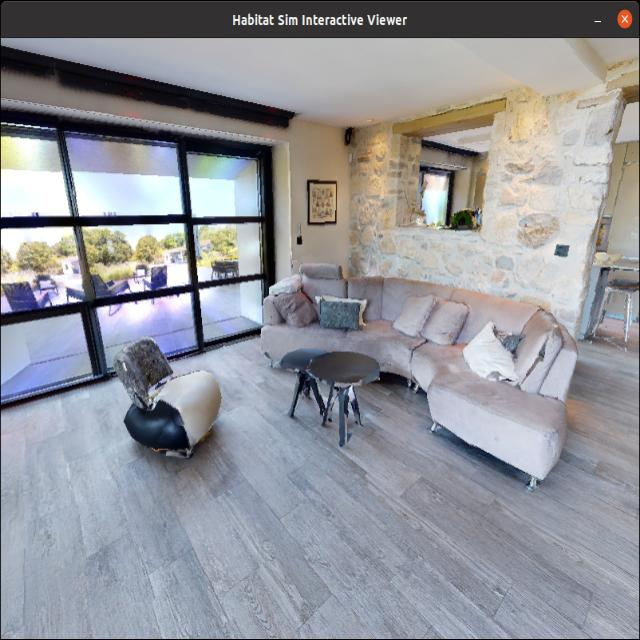sofa: (245, 247, 577, 484), (108, 325, 244, 496)
table: (280, 325, 387, 453)
